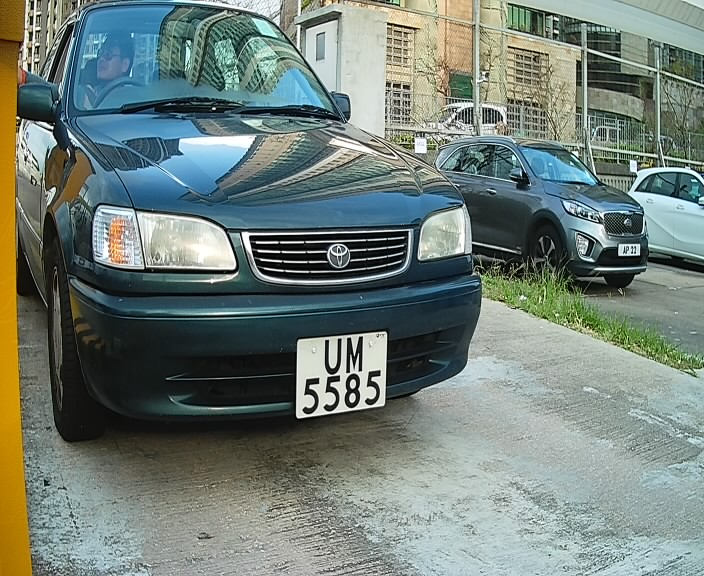Car: (14, 9, 489, 453)
License Plate: (286, 327, 393, 419)
